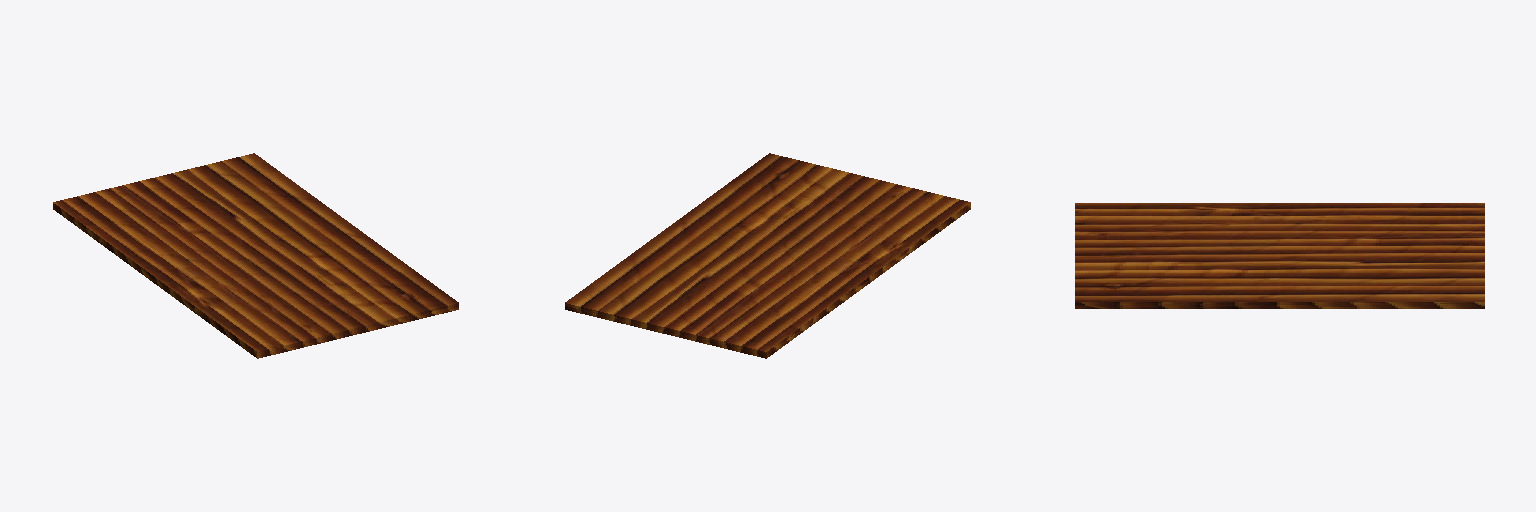
3 renders of one model, left to right at view 1: azimuth 30°, elevation 25°; view 2: azimuth 150°, elevation 25°; view 3: azimuth 270°, elevation 25°, orthographic.
Visible parts, largest first — view 1: polySurface21 Techo:polySurface26; view 2: polySurface21 Techo:polySurface26; view 3: polySurface21 Techo:polySurface26.
Boxes of the visible parts, x1,y1,x2,y2 form: polySurface21 Techo:polySurface26: [53, 153, 458, 358]; polySurface21 Techo:polySurface26: [565, 153, 970, 358]; polySurface21 Techo:polySurface26: [1075, 203, 1484, 308].
Bounding box in the file's own units: 13.27 × 0.4246 × 23.32.
1 materials, 1 textured.